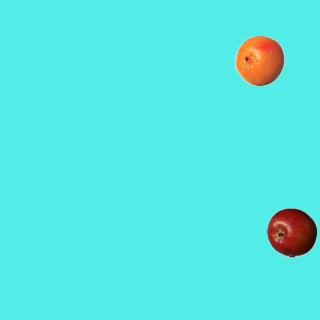Apple Braeburn: (266, 207, 316, 257)
Grapefruit Pink: (234, 35, 284, 85)
